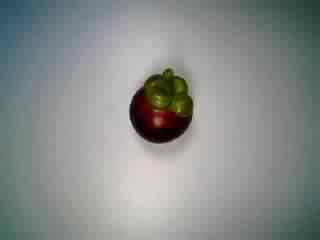mangosteen: (123, 65, 196, 145)
